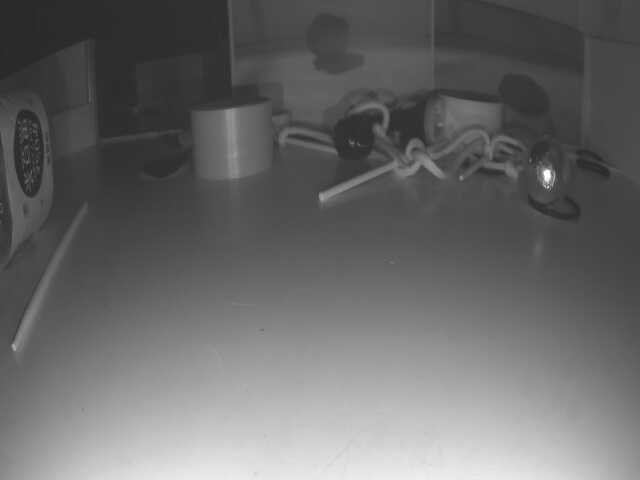Dead: (330, 110, 376, 159)
Live: (524, 137, 568, 208)
Point: (46, 101, 90, 159)
